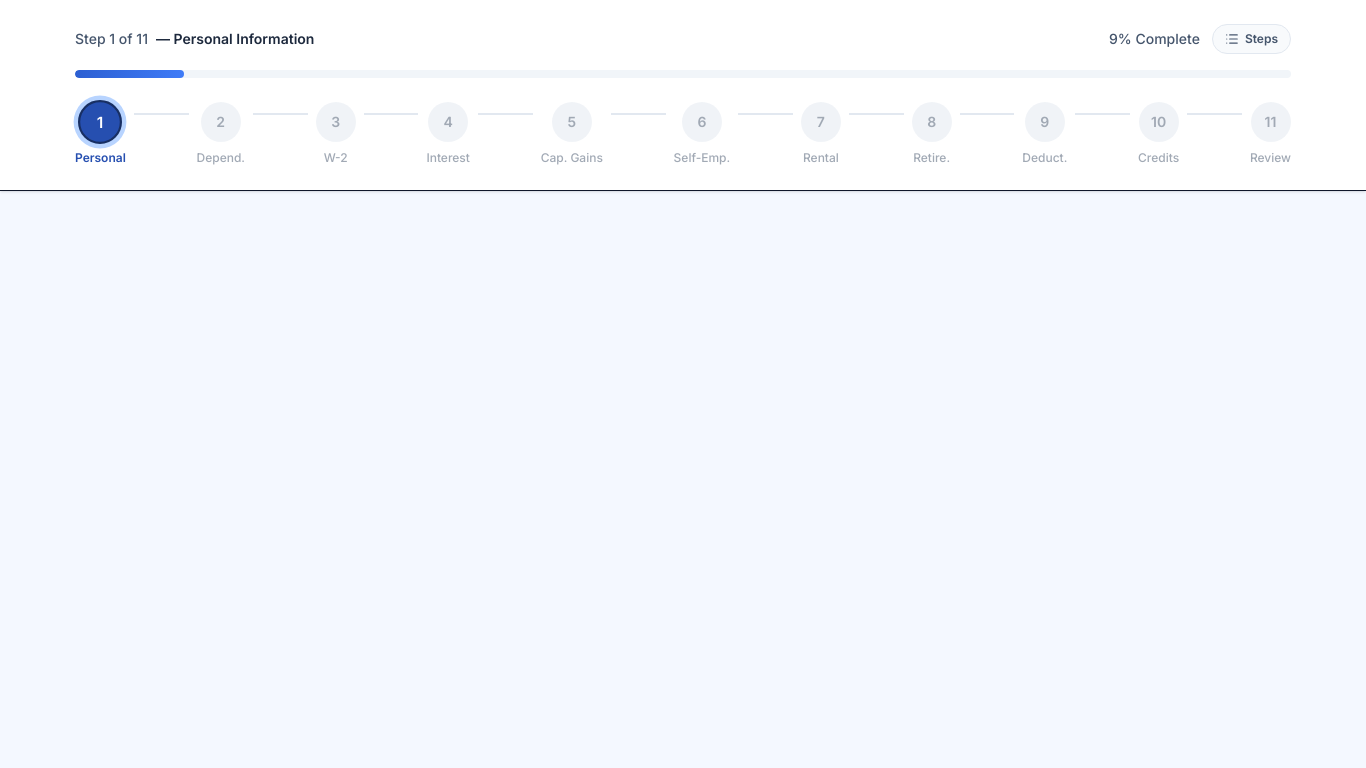
Test case: WizardNavigation — step panel › opens step panel on click and lists all 11 steps
Click the button "Steps" at (1251, 39), box [1212,24,1291,54]
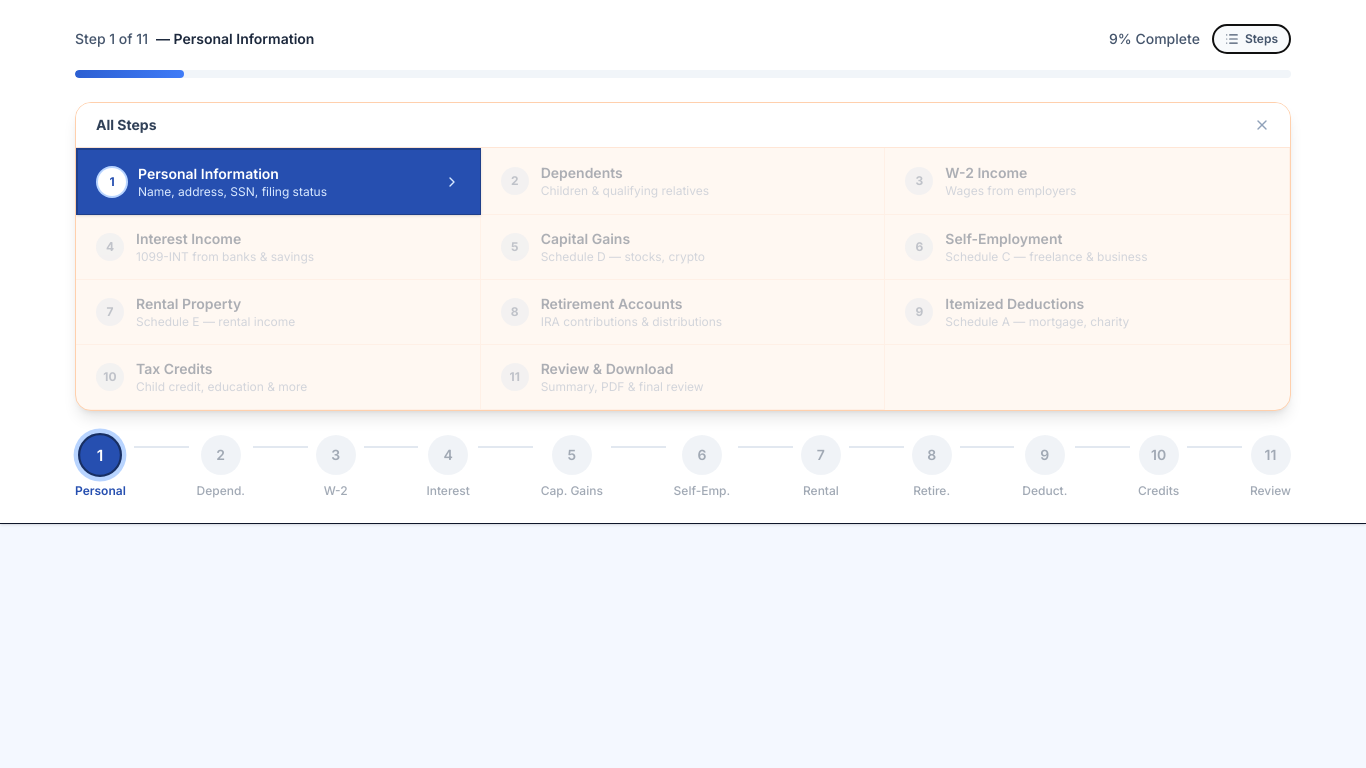
Expected: the text "All Steps" is shown, [96,115,156,135]
